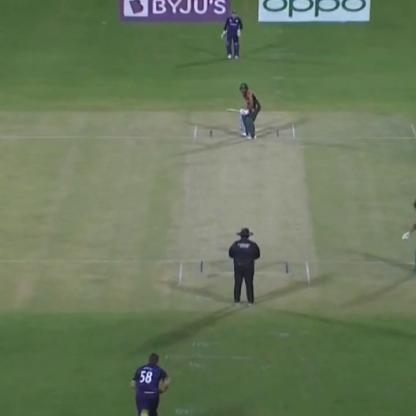bat: (216, 102, 246, 116)
pitch: (188, 124, 304, 298)
